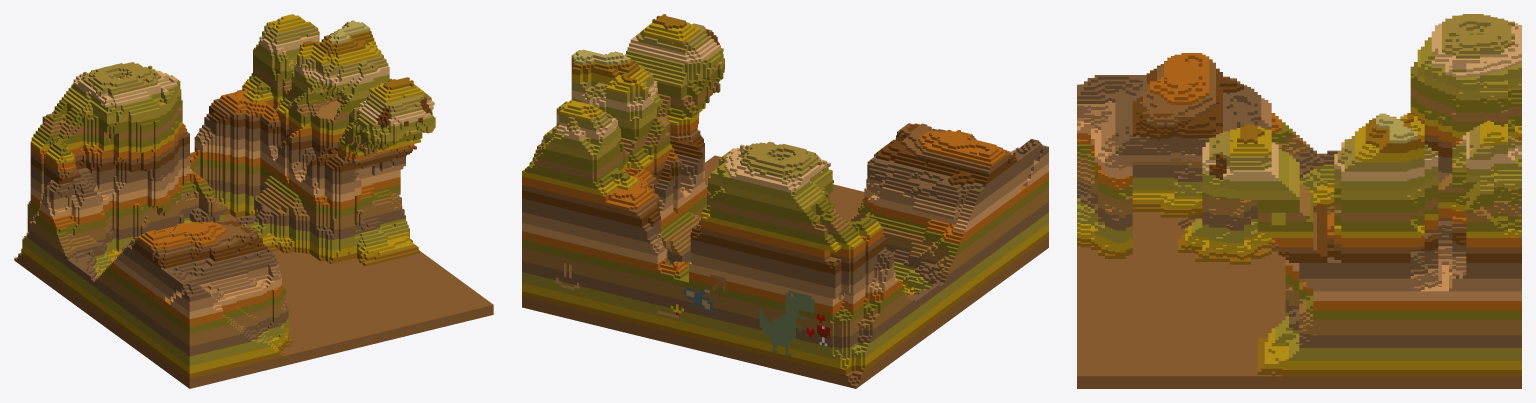
File: lvl3-30.obj
3 renders of one model, left to right at view 1: azimuth 30°, elevation 25°; view 2: azimuth 150°, elevation 25°; view 3: azimuth 270°, elevation 25°, orthographic. The views are drawn at different scales.
Bounding box in the file's own units: 12.8 × 8 × 12.8.
Materials: 1 (1 with a texture image).
